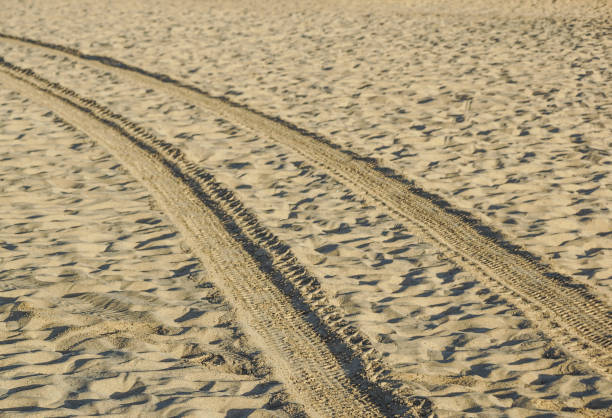vehicle_track: (0, 34, 611, 373), (0, 58, 430, 415)
